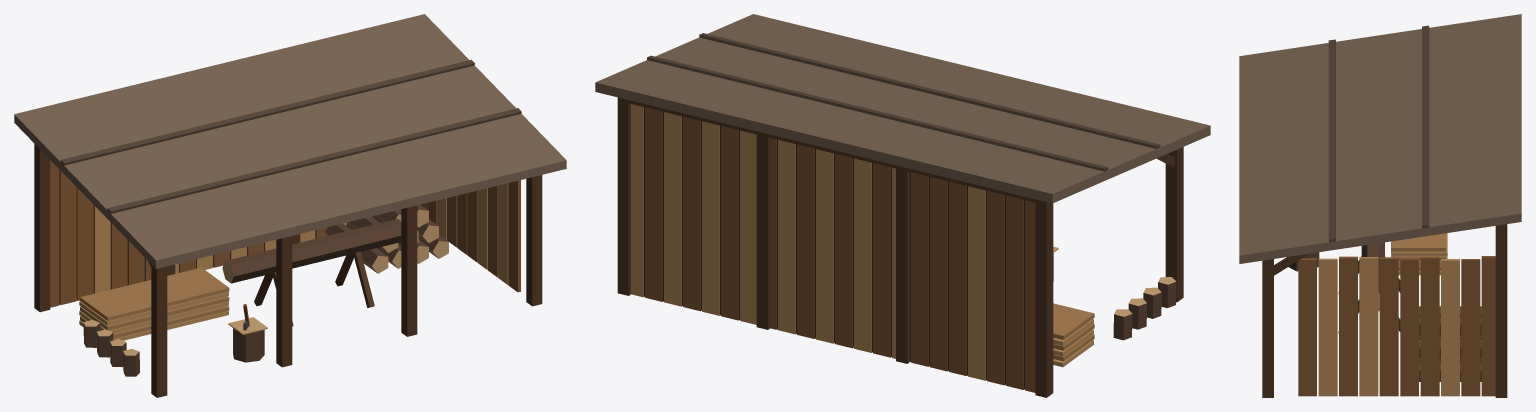
File: Dorf_Zimmerei.fbx
The picture shows the model from 3 angles, left to right: view 1: azimuth 30°, elevation 25°; view 2: azimuth 150°, elevation 25°; view 3: azimuth 270°, elevation 25°; orthographic projection. The views are drawn at different scales.
Visible parts, largest first — view 1: Dorf_Zimmerei; view 2: Dorf_Zimmerei; view 3: Dorf_Zimmerei.
Boxes of the visible parts, x1,y1,x2,y2 form: Dorf_Zimmerei: (14,14,566,397); Dorf_Zimmerei: (595,14,1210,397); Dorf_Zimmerei: (1239,14,1521,397).
Size of the model in its own units: 8.1 by 3.64 by 4.85.
